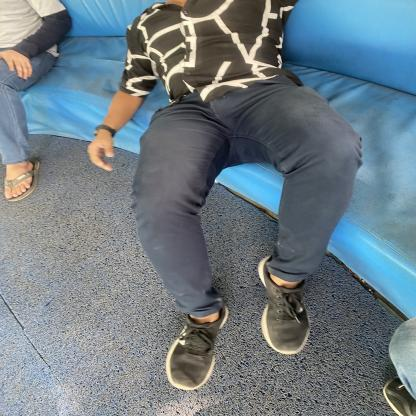hand: (62, 82, 149, 172), (0, 27, 49, 81)
leg: (114, 212, 231, 400), (244, 187, 333, 361), (0, 118, 61, 217)
